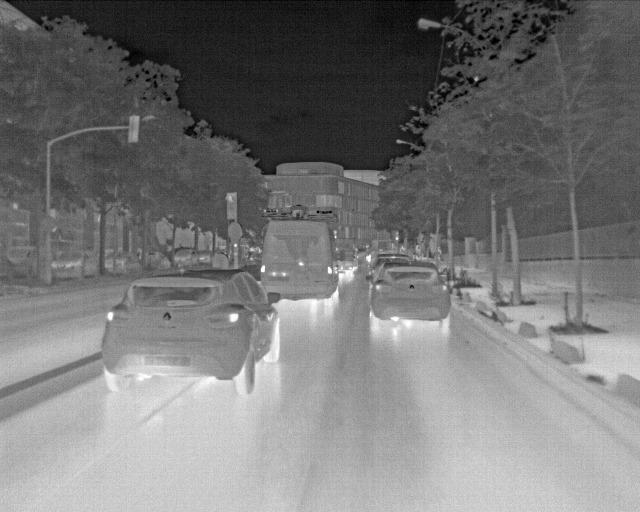car: (100, 268, 282, 396), (260, 218, 346, 308), (365, 260, 451, 329), (366, 255, 412, 298), (51, 247, 100, 281), (5, 245, 39, 282), (104, 251, 142, 277), (367, 251, 409, 271), (141, 249, 172, 274), (333, 238, 358, 269), (173, 247, 200, 270), (196, 250, 213, 266)
light: (127, 115, 140, 143), (48, 209, 59, 232), (233, 243, 238, 256), (333, 230, 338, 239), (395, 231, 399, 240)
sign: (39, 215, 56, 234)
